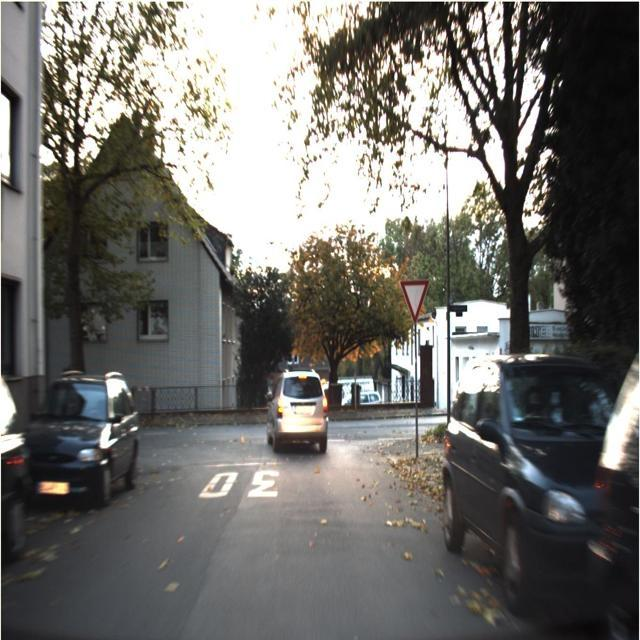prio_give_way: (399, 279, 430, 325)
